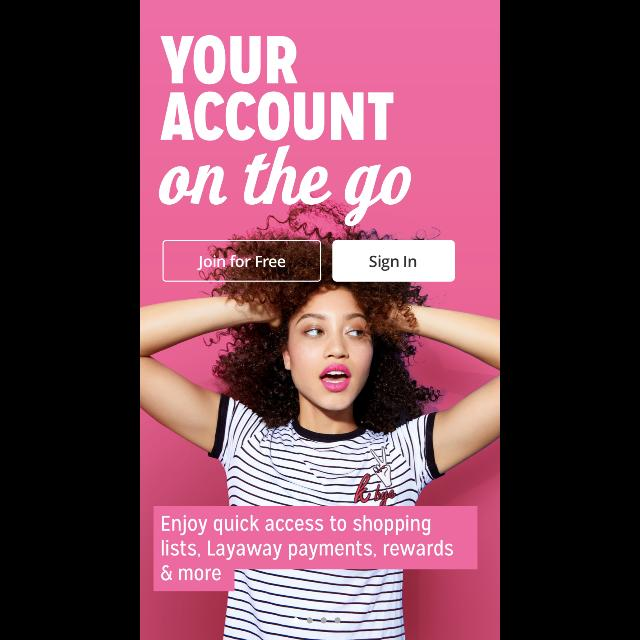backgroundimage: (140, 1, 500, 640)
pageindicator: (293, 617, 341, 623)
text: (158, 35, 412, 227), (160, 515, 454, 581)
textbutton: (163, 240, 321, 282), (333, 240, 455, 282)
